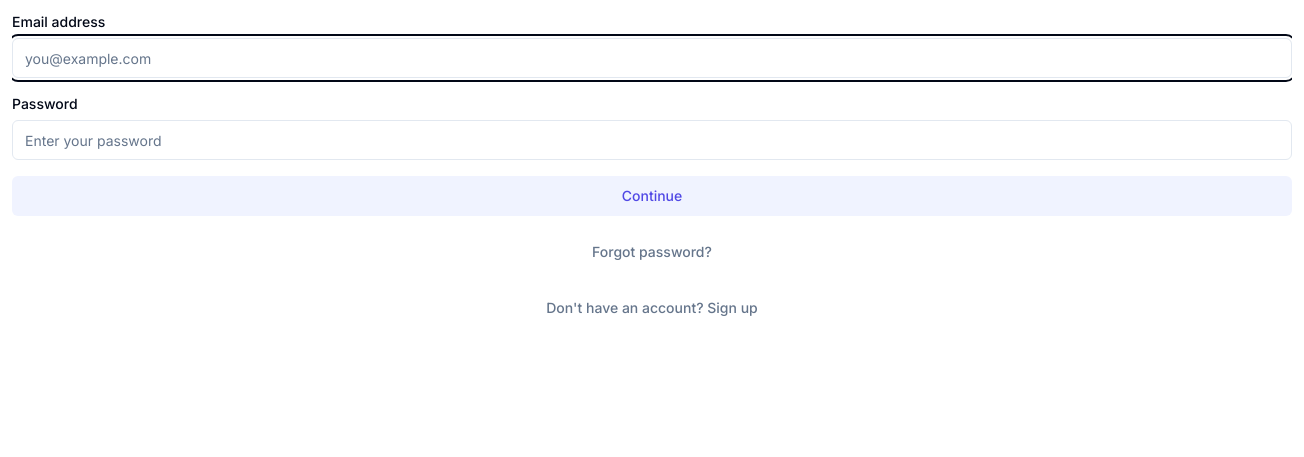
Scenario: EmailPasswordAuthForm › Error handling › clears error when switching modes
The width and height of the screenshot is (1304, 457).
Trigger an error
Type "test@example.com" into the field labelled "Email address".
click(652, 58); type("test@example.com")  # box [12, 38, 1292, 78]
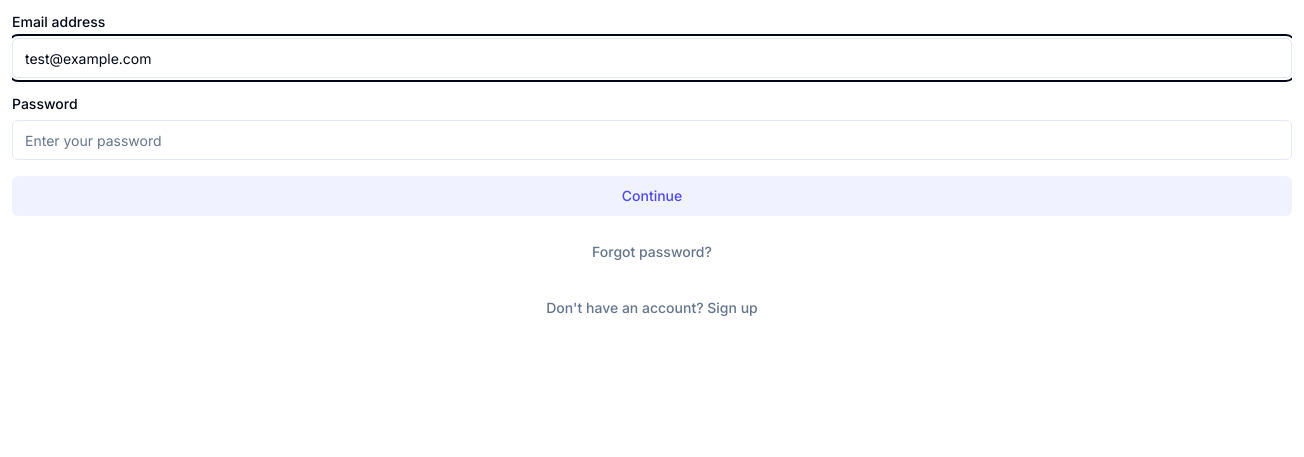
Type "wrongpassword12345678" into the password field labelled "Password".
click(652, 140); type("wrongpassword12345678")  # box [12, 120, 1292, 160]
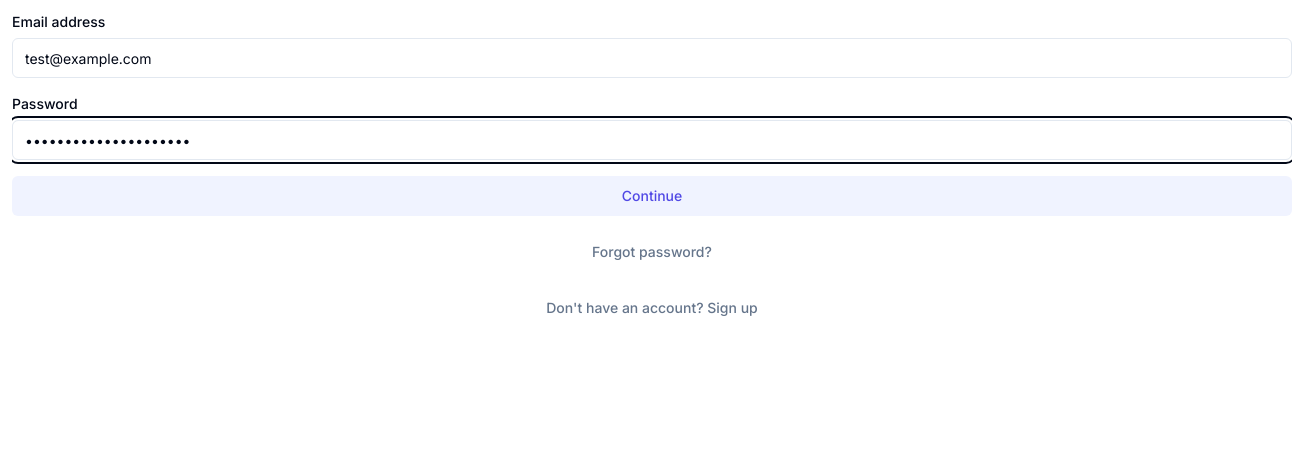
Click the button "Continue".
click(652, 196)  # box [12, 176, 1292, 216]
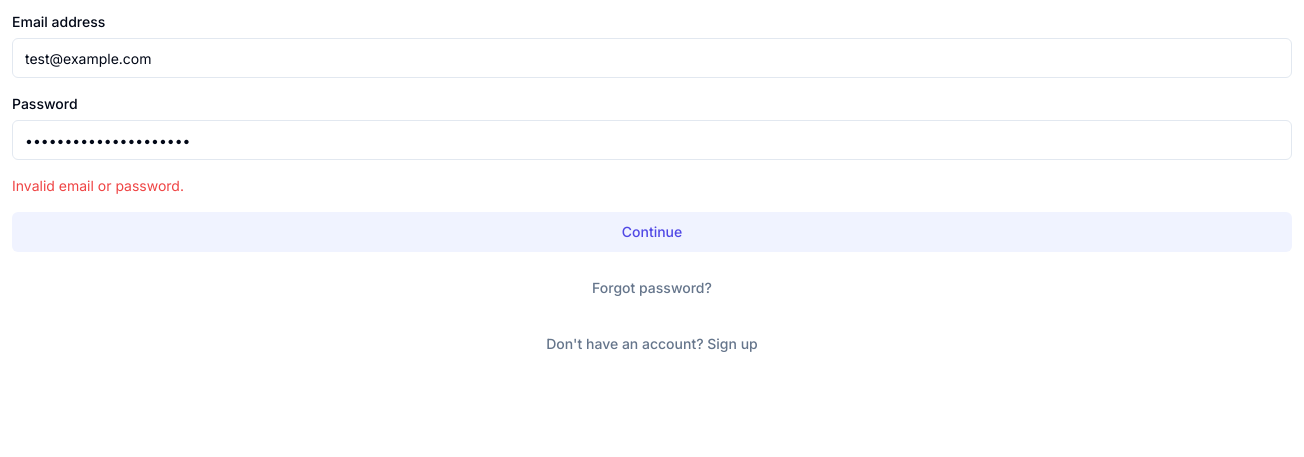
Check: the text "Invalid email or password." is shown, box [12, 177, 184, 194]
Switch mode
Click the button "Don't have an account? Sign up".
click(652, 344)  # box [12, 324, 1292, 364]
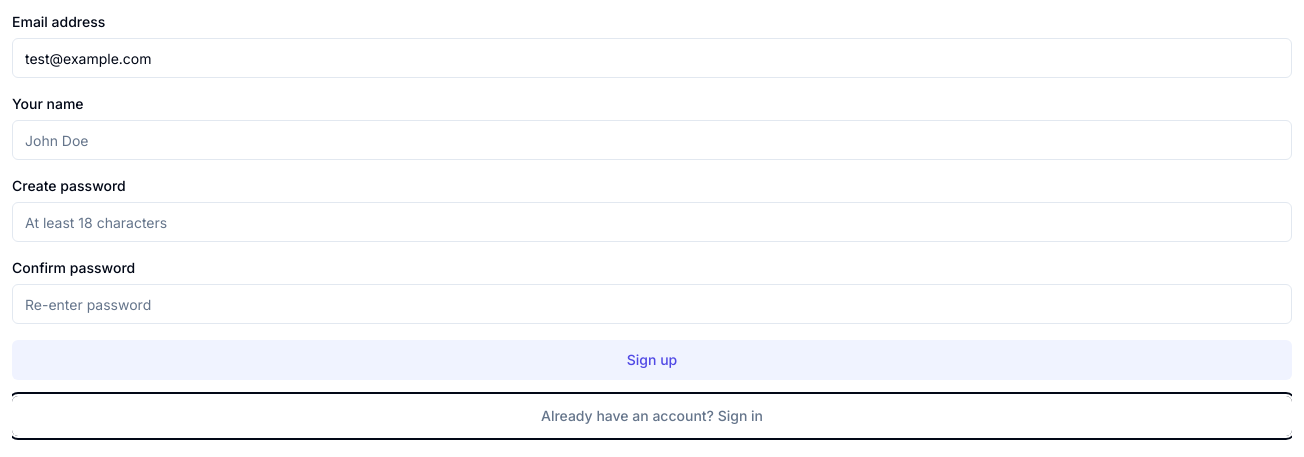
Check: the text "Invalid email or password" is gone
